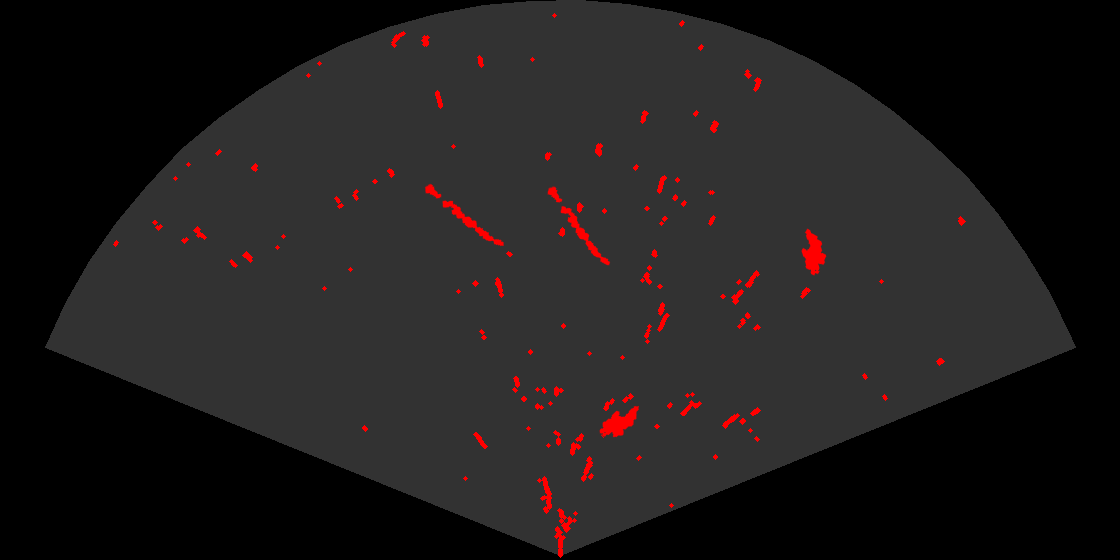AUV: (598, 404, 641, 439), (800, 227, 828, 277)
chain: (423, 182, 505, 248), (546, 185, 612, 267)
